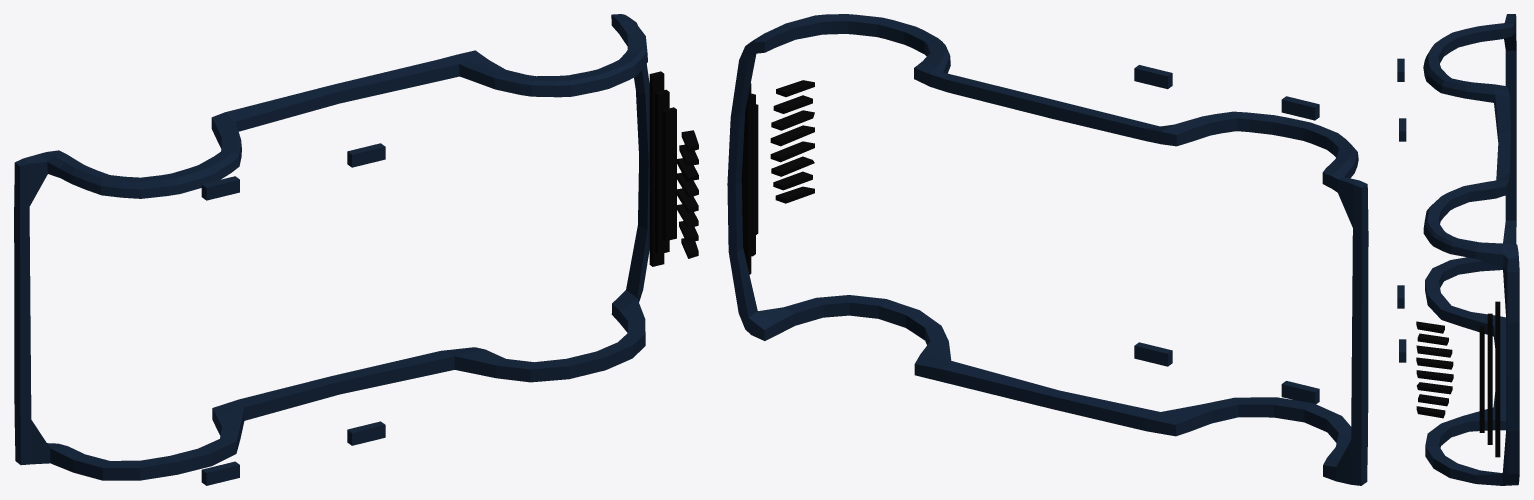
File: carbottom.glb
3 views of the same model, side by side, from view 1: azimuth 30°, elevation 25°; view 2: azimuth 150°, elevation 25°; view 3: azimuth 270°, elevation 25° (orthographic). The views are drawn at different scales.
Parts seen in each view (by area): view 1: shadeBlack; view 2: shadeBlack; view 3: shadeBlack.
Part boxes in pixels (x1=…): shadeBlack: x1=14, y1=14, x2=698, y2=485; shadeBlack: x1=727, y1=14, x2=1368, y2=485; shadeBlack: x1=1397, y1=14, x2=1519, y2=485.
Size of the model in its own units: 2.13 by 0.978 by 0.4439.
